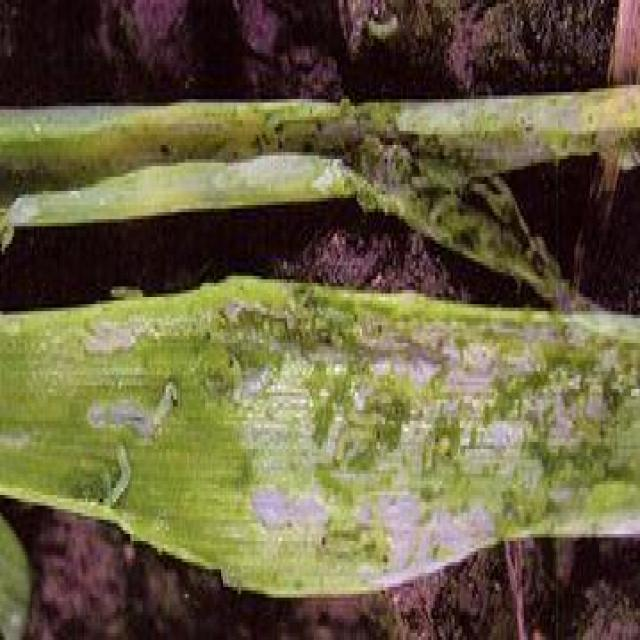BeetArmyWorm-Larva-: (104, 443, 134, 515)
